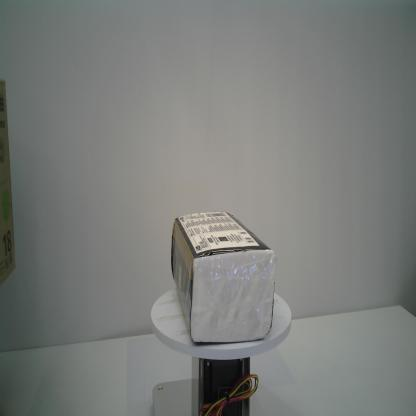Tissue: (170, 210, 276, 344)
